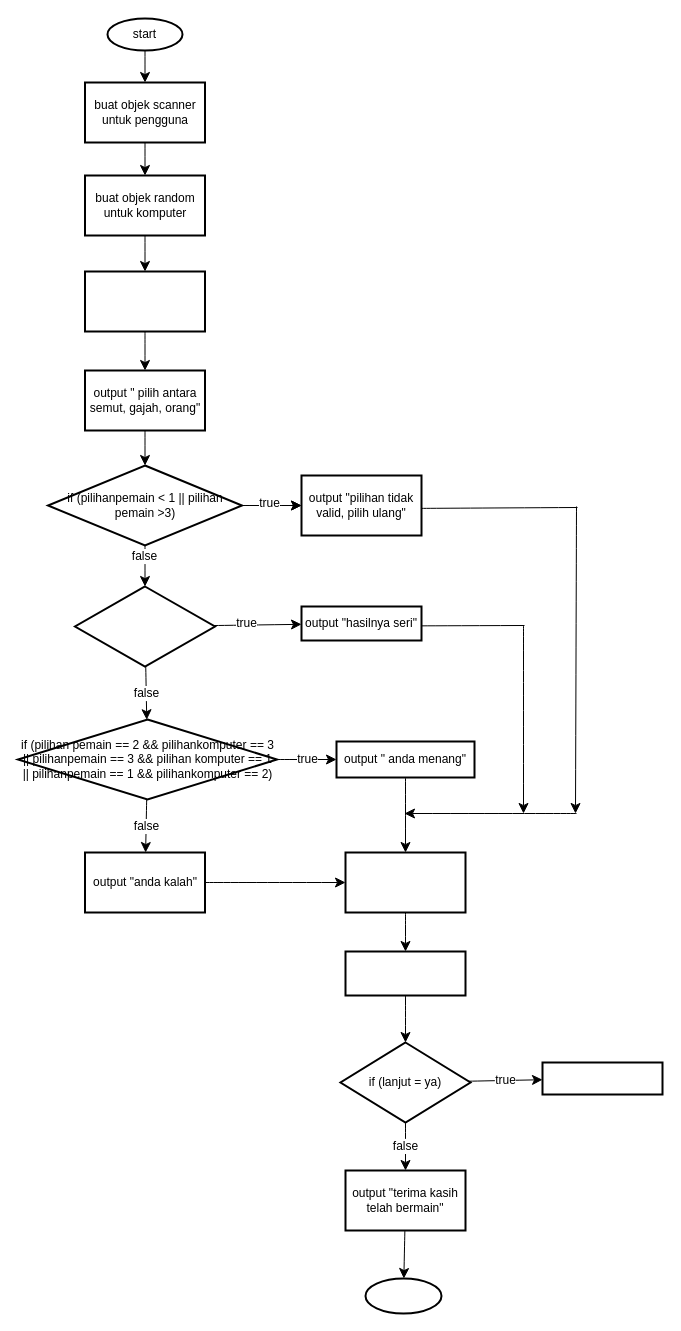
Some shapes in this 681 by 1331 pixel diagram are drawn without their labels. Each missing label, with the centre of its shape:
bermain kembali: point 602,1078
end: point 403,1295
if (pilihanpemain == pilihan komputer): point 145,626
input lanjut = ya, tidak: point 405,973
input pilihan 1. semut 2. gajah 3. orang": point 145,301
output "ingin bermain lagi (ya/tidak)": point 405,882
